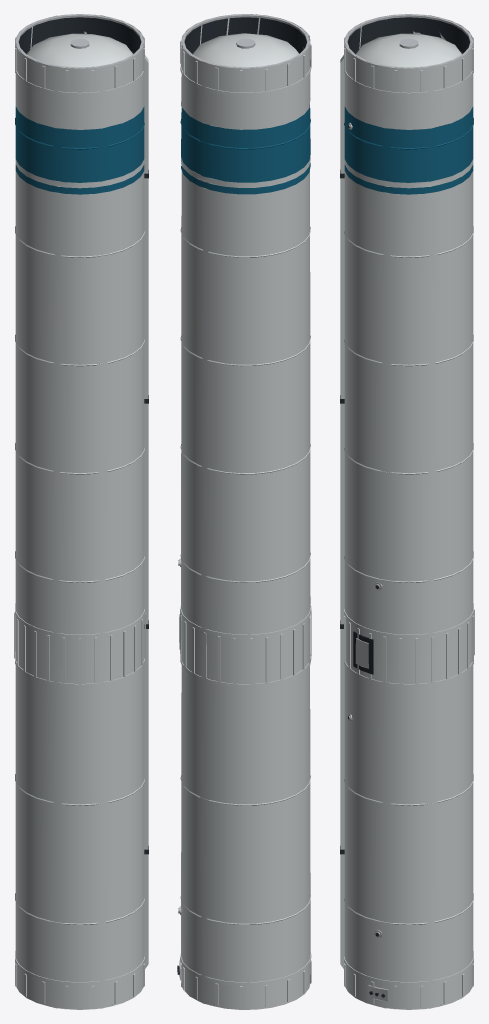
Rendered from tank_s1_m.glb.
3 renders of one model, left to right at view 1: azimuth 90°, elevation 25°; view 2: azimuth 210°, elevation 25°; view 3: azimuth 270°, elevation 25°, orthographic.
Visible parts, largest first — view 1: tank_s1_m_mesh; view 2: tank_s1_m_mesh; view 3: tank_s1_m_mesh.
Boxes of the visible parts, x1,y1,x2,y2 form: tank_s1_m_mesh: [14, 14, 148, 1009]; tank_s1_m_mesh: [177, 14, 311, 1009]; tank_s1_m_mesh: [340, 14, 474, 1009].
Bounding box in the file's own units: 3.75 × 29.6 × 3.84.
